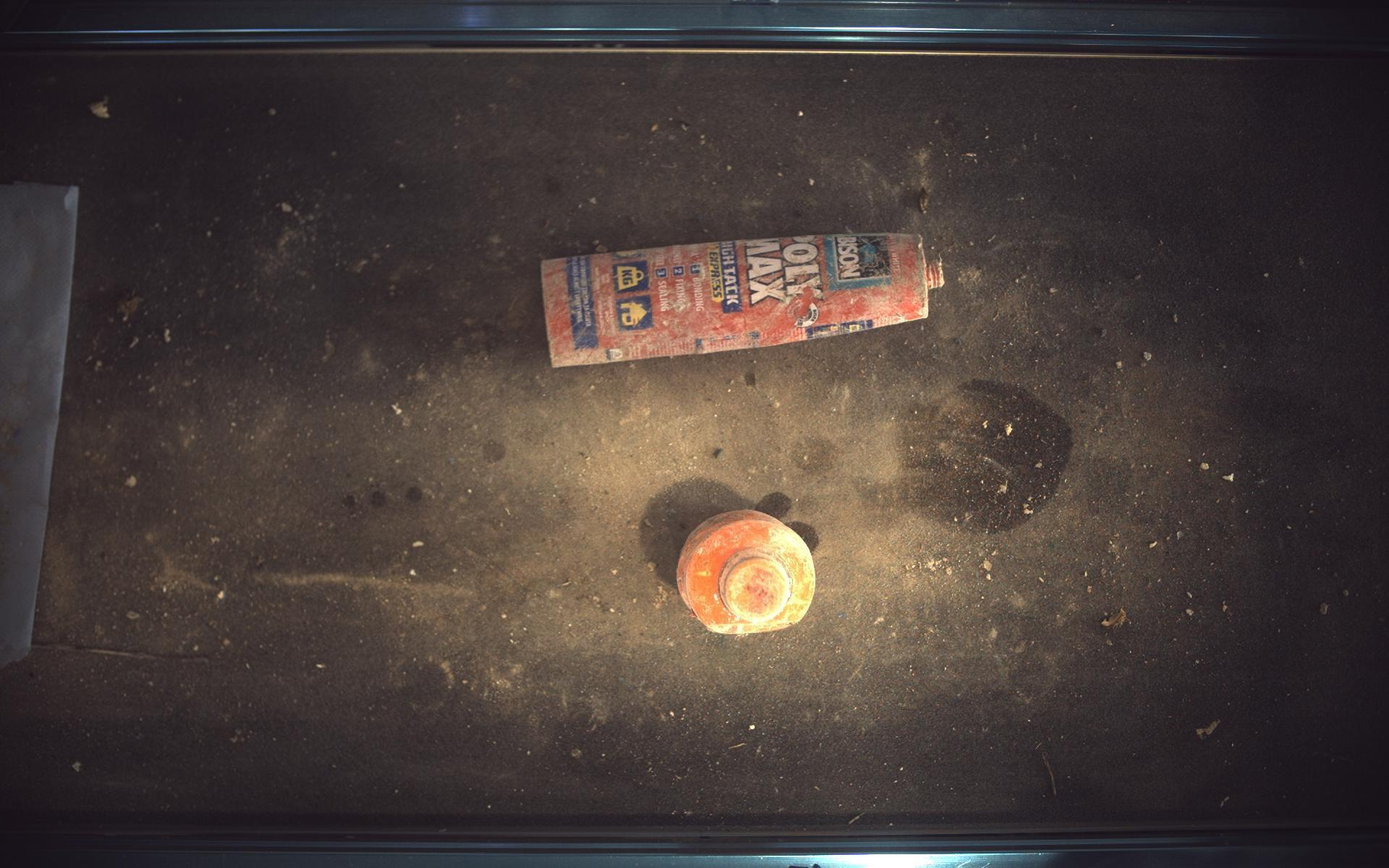general_w: (679, 511, 817, 635)
